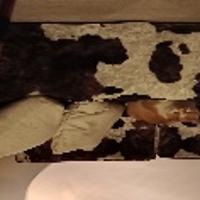asleep: (125, 100, 200, 128)
